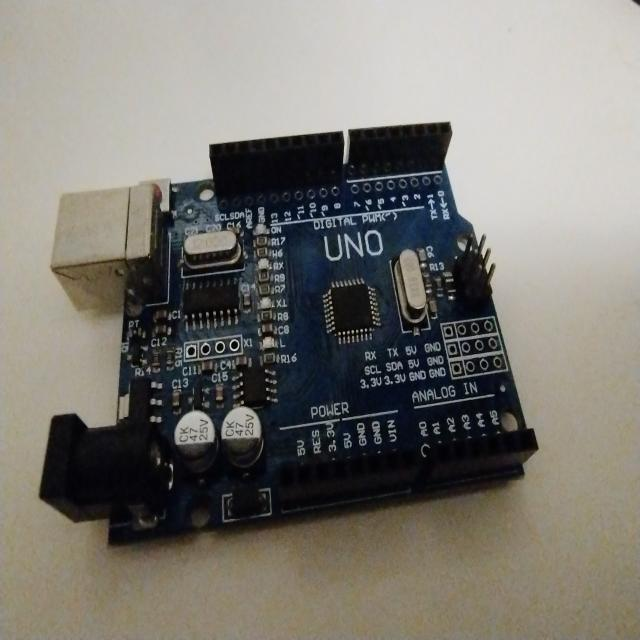arduino: (52, 102, 542, 536)
